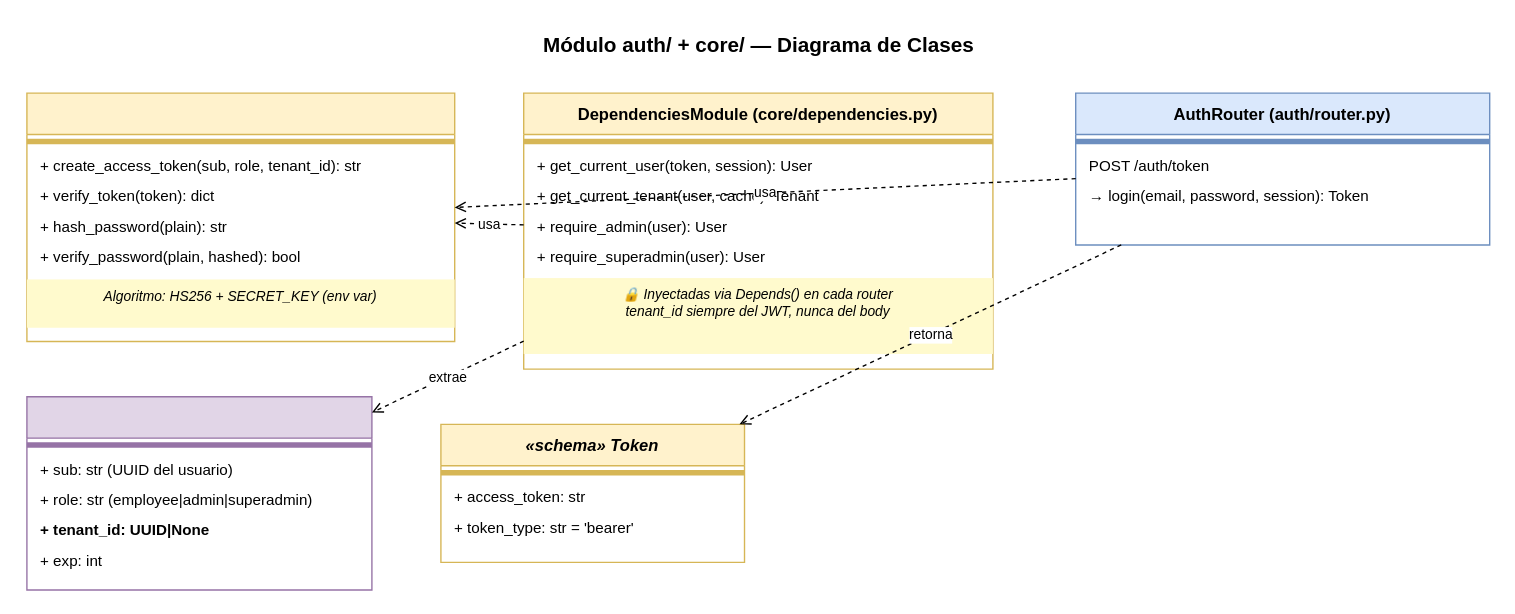
This 1515x614 diagram has some shape labels left out. Each missing label, with the box of its shape:
SecurityModule (core/security.py): (26, 92, 455, 342)
«dataclass» JWTPayload: (26, 395, 372, 590)
